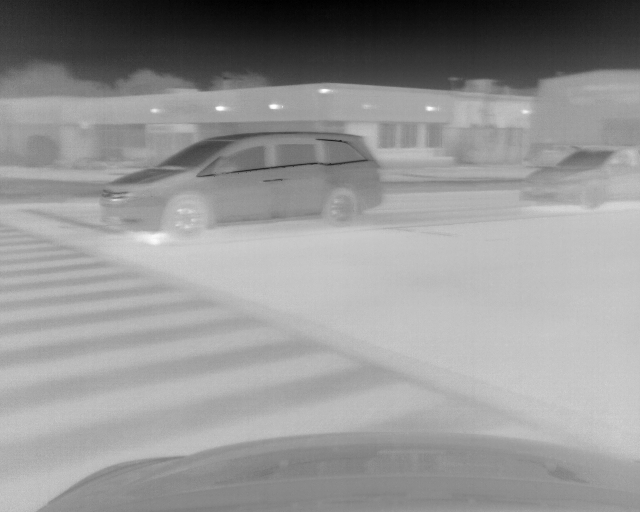car: (100, 130, 383, 243), (517, 145, 640, 210)
